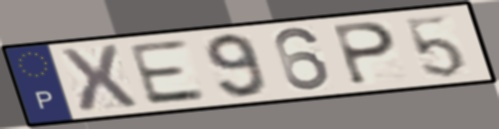5: (401, 12, 468, 78)
6: (272, 25, 332, 93)
9: (201, 31, 272, 101)
E: (124, 37, 210, 108)
P: (330, 20, 399, 87)
X: (55, 43, 142, 116)
